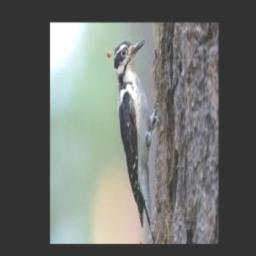Woodpecker: (107, 39, 159, 237)
